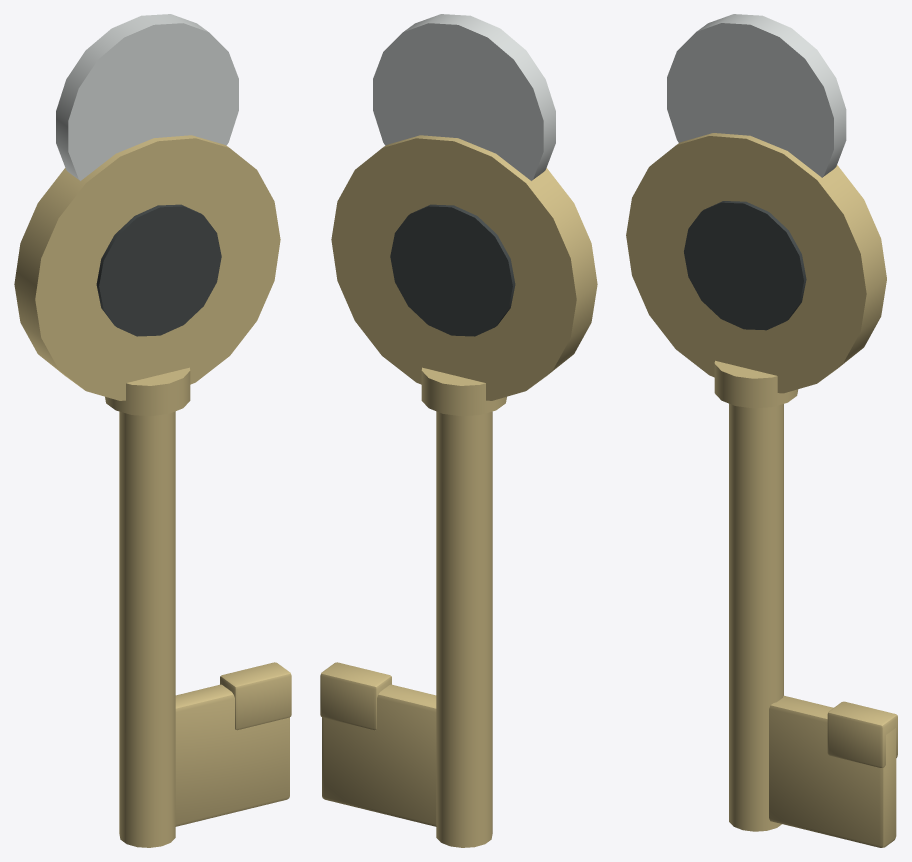
File: CTCC_PROP_GateKey.fbx
The picture shows the model from 3 angles, left to right: view 1: azimuth 30°, elevation 25°; view 2: azimuth 150°, elevation 25°; view 3: azimuth 330°, elevation 25°; orthographic projection.
Visible parts, largest first — view 1: CTCC_PROP_GateKey; view 2: CTCC_PROP_GateKey; view 3: CTCC_PROP_GateKey.
Boxes of the visible parts, x1,y1,x2,y2 form: CTCC_PROP_GateKey: (14, 14, 291, 847); CTCC_PROP_GateKey: (320, 14, 597, 847); CTCC_PROP_GateKey: (626, 14, 897, 847).
Bounding box in the file's own units: 0.036 × 0.108 × 0.0104.
